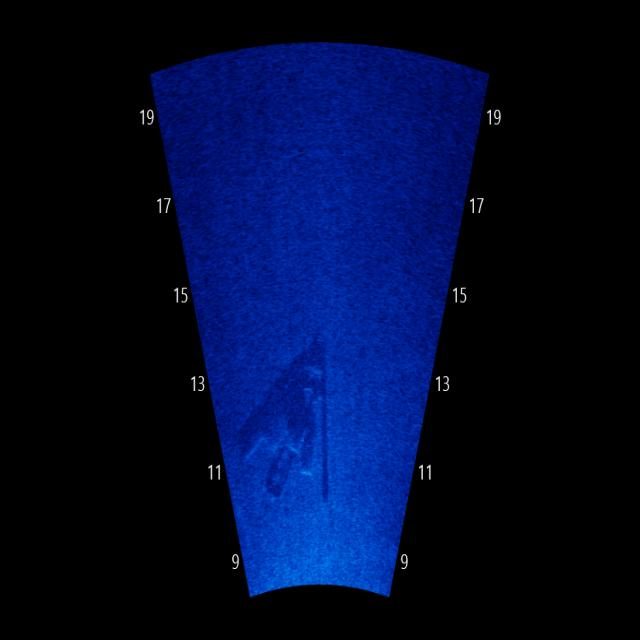triangle: (242, 336, 340, 510)
